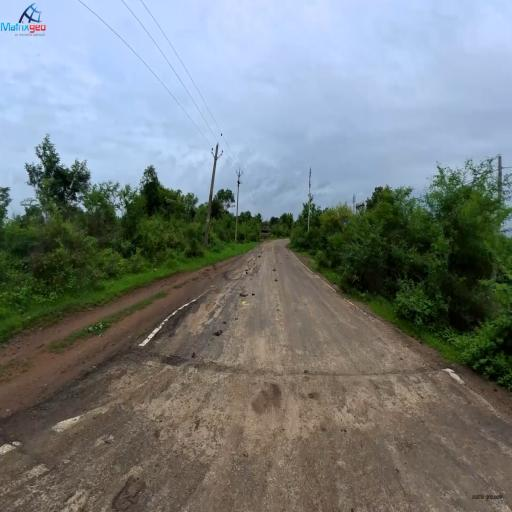longitudinal_crack: (155, 338, 422, 397)
